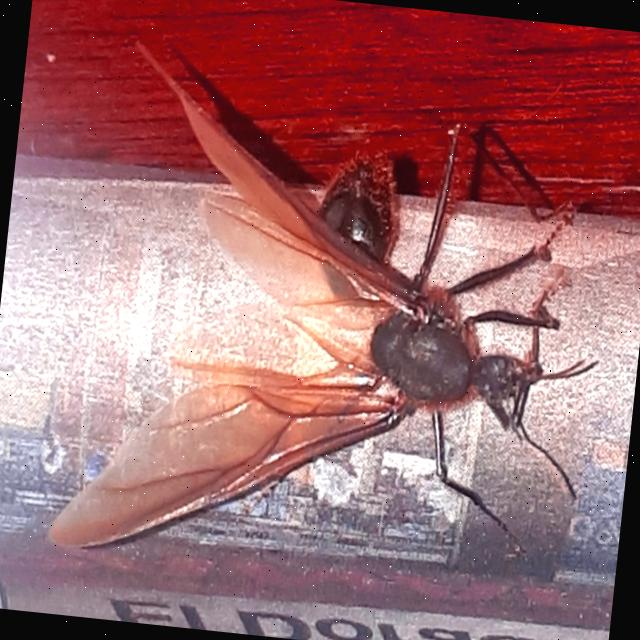Alive-Male-Alate: (44, 33, 628, 605)
